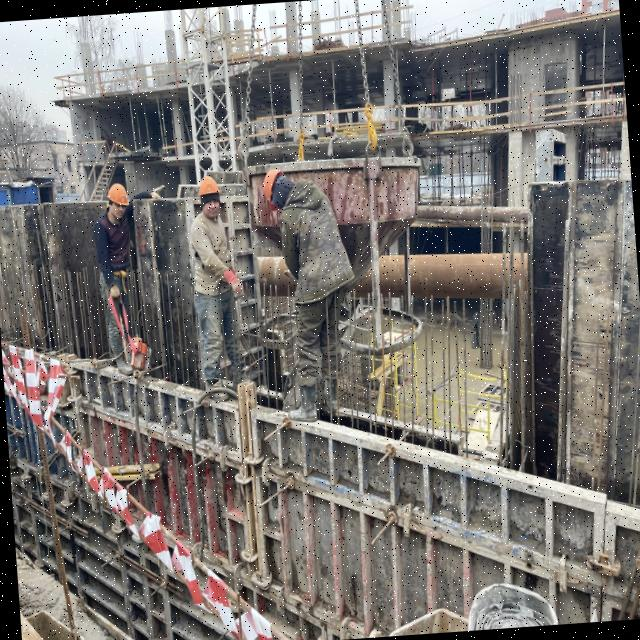Helmet: (262, 168, 286, 212), (106, 184, 131, 211), (198, 176, 222, 199)
NoJacket: (287, 184, 339, 310), (195, 202, 232, 299), (99, 210, 134, 281)
